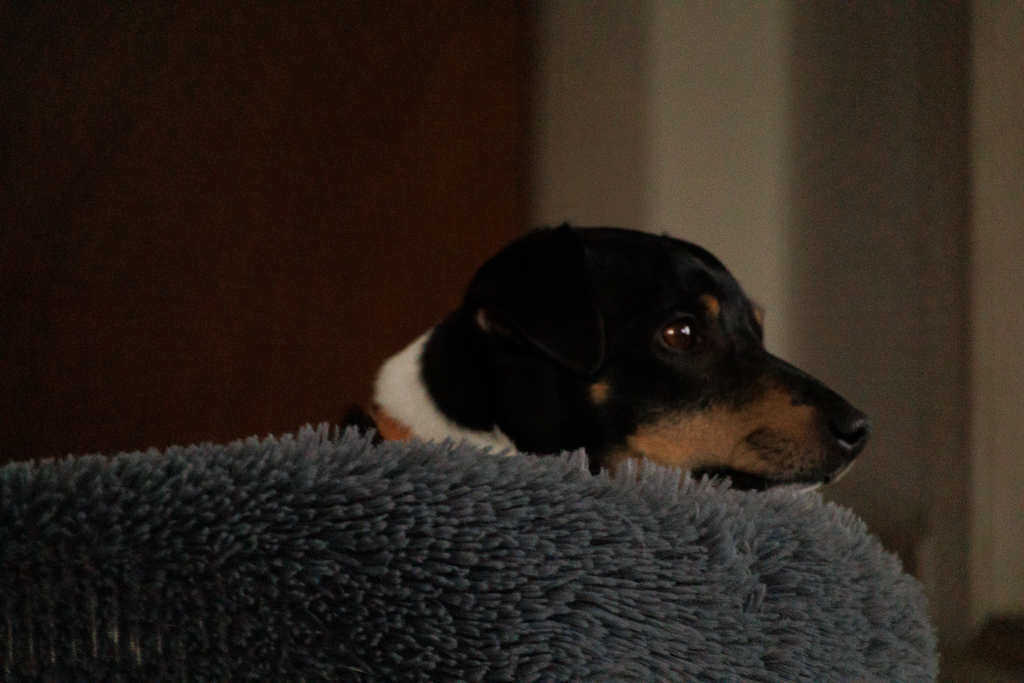Dog: (311, 211, 880, 520)
